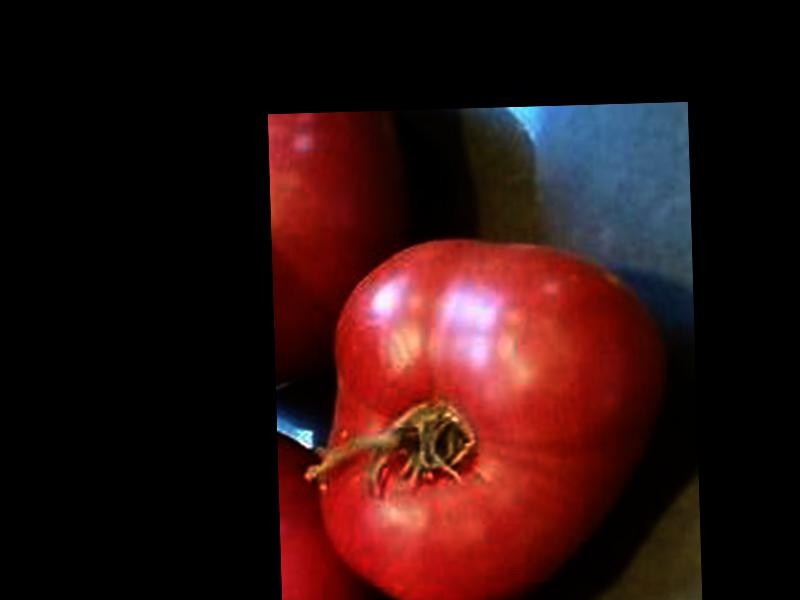Tomato: (312, 231, 672, 600)
